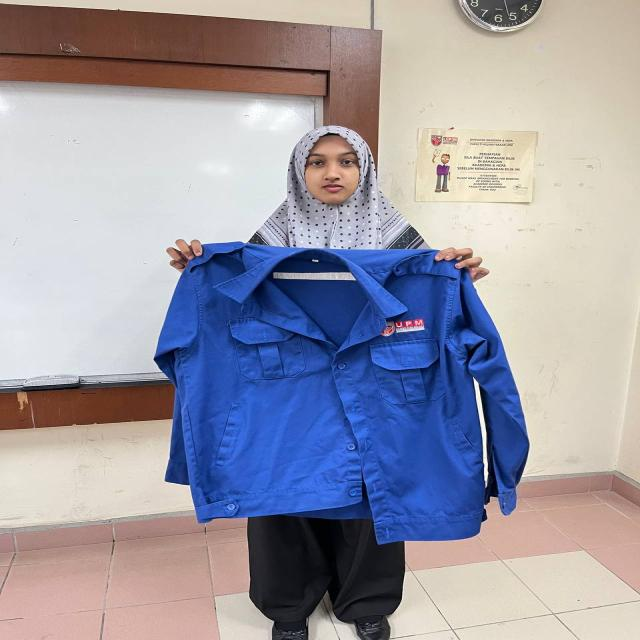person_without_labcoat: (154, 126, 529, 640)
